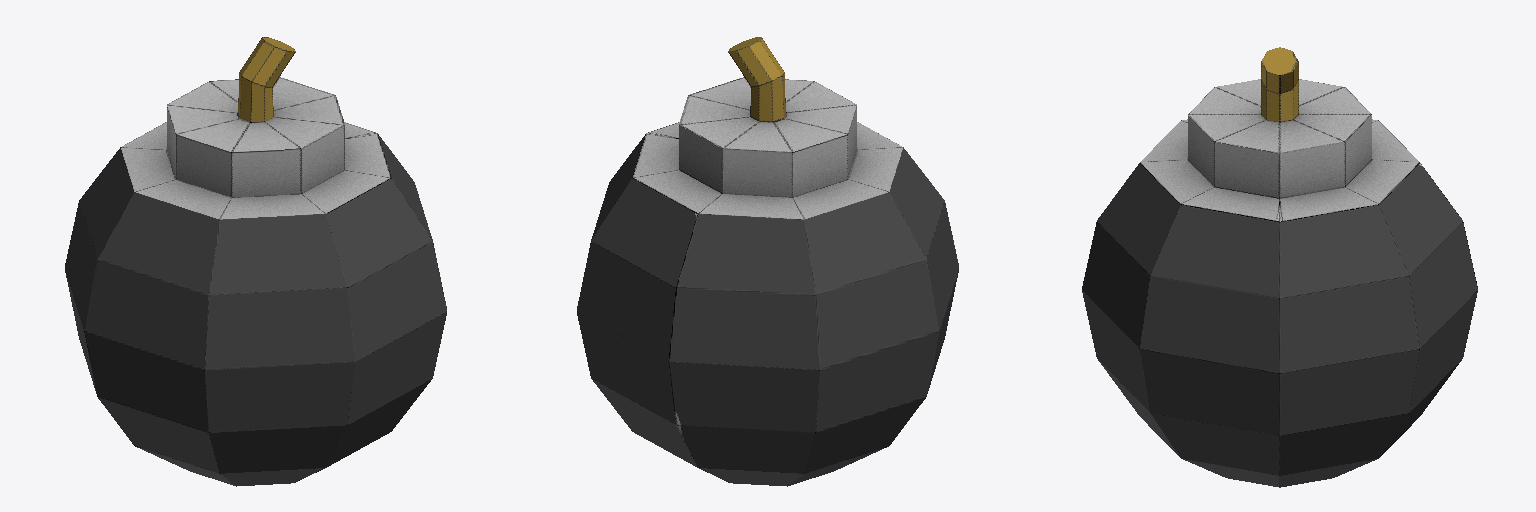
The picture shows the model from 3 angles: view 1: azimuth 30°, elevation 25°; view 2: azimuth 150°, elevation 25°; view 3: azimuth 270°, elevation 25°; orthographic projection.
Visible parts, largest first — view 1: Sphere; view 2: Sphere; view 3: Sphere.
Part boxes in pixels (left/top/right/bottom): Sphere: left=65, top=37, right=446, bottom=486; Sphere: left=577, top=37, right=958, bottom=486; Sphere: left=1082, top=47, right=1477, bottom=487.
Bounding box in the file's own units: 0.074 × 0.0878 × 0.074.
Materials: 1 (1 with a texture image).